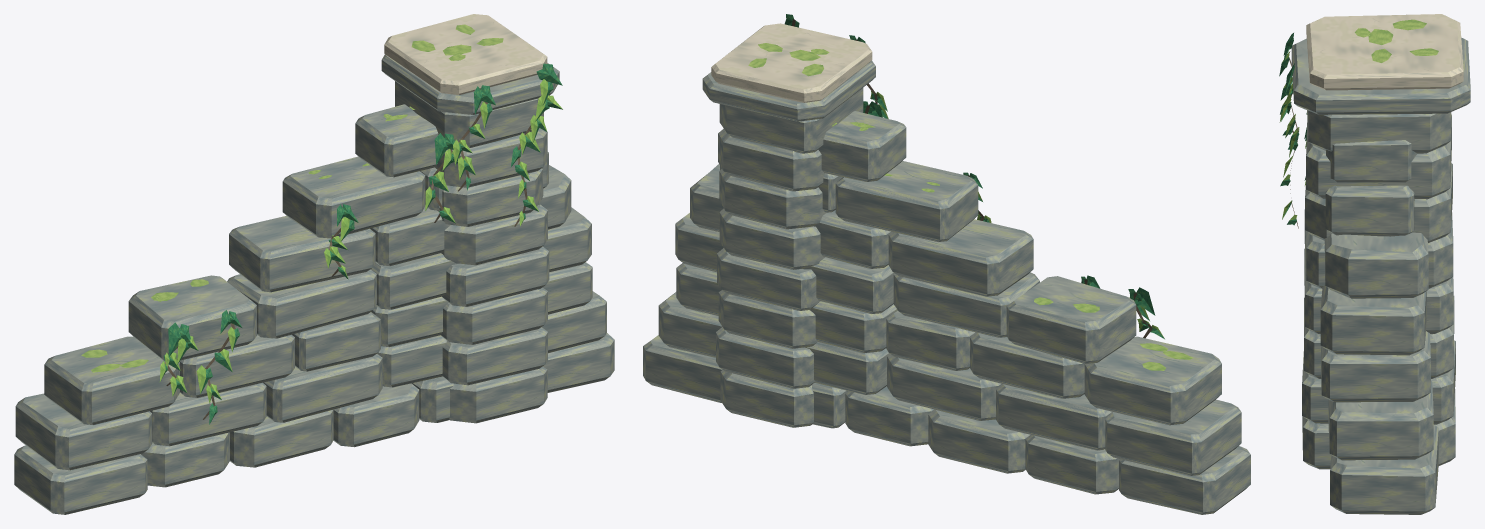
Rendered from PilgrimWall.fbx.
3 views of the same model, side by side, from view 1: azimuth 30°, elevation 25°; view 2: azimuth 150°, elevation 25°; view 3: azimuth 270°, elevation 25° (orthographic). The views are drawn at different scales.
Parts seen in each view (by area): view 1: PilgrimWall; view 2: PilgrimWall; view 3: PilgrimWall.
Part boxes in pixels (bbox=[...]): PilgrimWall: bbox=[14, 14, 614, 514]; PilgrimWall: bbox=[643, 14, 1250, 514]; PilgrimWall: bbox=[1279, 14, 1470, 514].
Bounding box in the file's own units: 760 × 445 × 192.
Materials: 1 (1 with a texture image).
